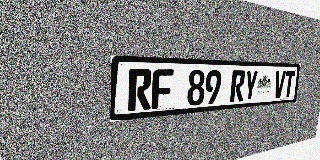8: (187, 70, 206, 106)
9: (204, 70, 222, 105)
F: (151, 69, 174, 109)
R: (128, 69, 152, 111), (230, 70, 246, 102)
T: (283, 71, 295, 98)
V: (273, 71, 286, 98)
Y: (243, 70, 258, 101)
